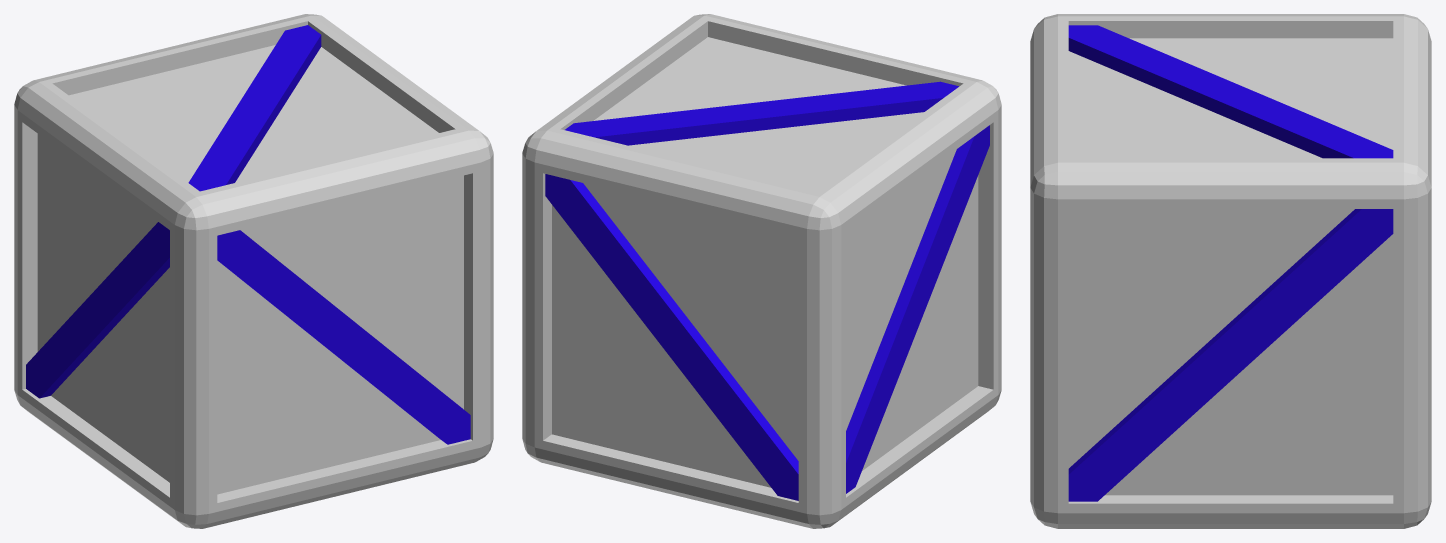
File: crate1.fbx
The picture shows the model from 3 angles, left to right: view 1: azimuth 30°, elevation 25°; view 2: azimuth 150°, elevation 25°; view 3: azimuth 270°, elevation 25°; orthographic projection. The views are drawn at different scales.
Parts seen in each view (by area): view 1: Cube.002, Cube.003, Cube.004, Cube.001; view 2: Cube.002, Cube.005, Cube.004, Cube.001; view 3: Cube.002, Cube.006, Cube.001.
Boxes of the visible parts, box(x1,y1,x2,y2) form: Cube.002: box(14, 14, 493, 528); Cube.003: box(217, 230, 470, 444); Cube.004: box(26, 222, 169, 398); Cube.001: box(188, 25, 321, 191); Cube.002: box(522, 14, 1001, 528); Cube.005: box(545, 174, 798, 500); Cube.004: box(846, 125, 989, 493); Cube.001: box(565, 81, 958, 145); Cube.002: box(1030, 14, 1431, 528); Cube.006: box(1068, 209, 1393, 501); Cube.001: box(1068, 25, 1393, 158).
Bounding box in the file's own units: 201 × 201 × 201.
